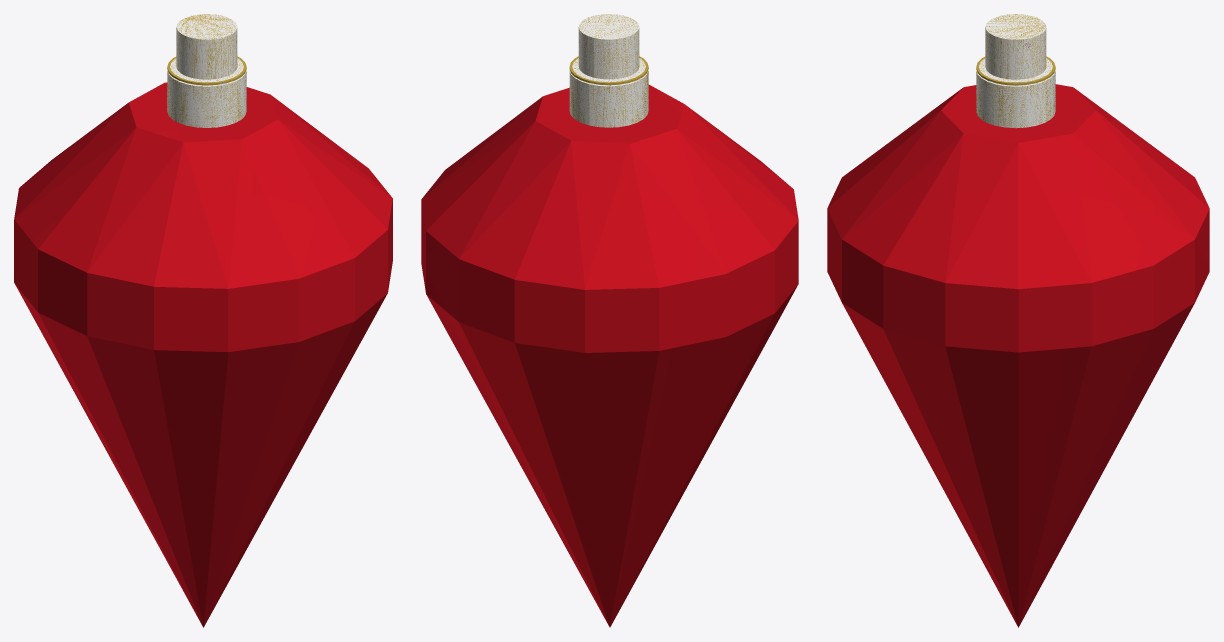
The model's file is Perfume.fbx.
The picture shows the model from 3 angles, left to right: view 1: azimuth 30°, elevation 25°; view 2: azimuth 150°, elevation 25°; view 3: azimuth 270°, elevation 25°; orthographic projection.
Parts seen in each view (by area): view 1: Perfume1; view 2: Perfume1; view 3: Perfume1.
Part boxes in pixels (<box>): Perfume1: <box>14,14,392,627</box>; Perfume1: <box>421,14,798,627</box>; Perfume1: <box>827,14,1209,627</box>.
Size of the model in its own units: 10.25 by 17.81 by 10.25.
